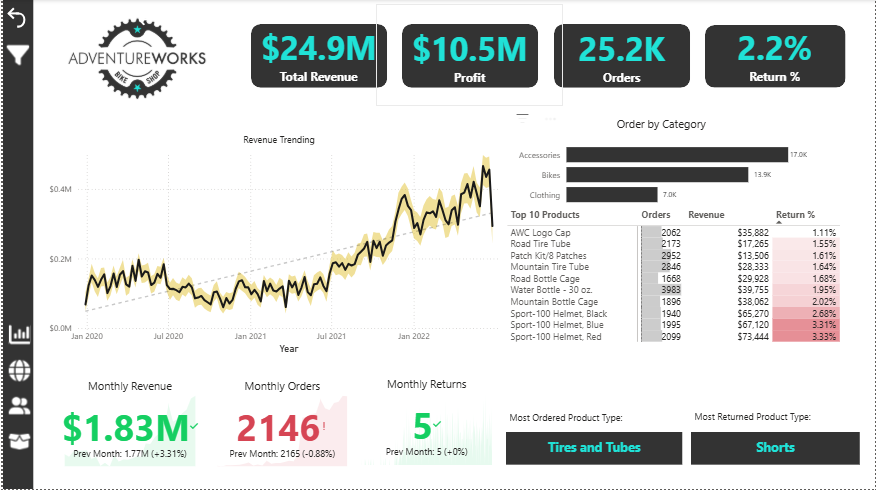

What the dashboard file says about the page in this screenshot:
{"tool":"powerbi","page":{"name":"Exec Details","canvas":[1280,720],"ordinal":0},"visuals":[{"type":"image","title":"AW Logo","box":[68.3,17.5,257.5,139.9],"z":0},{"type":"actionButton","box":[4.8,467.3,39.7,52.5],"z":0,"group":"g1"},{"type":"shape","box":[586.5,37.2,200.3,93.8],"z":1000},{"type":"actionButton","box":[4.8,572.2,39.7,52.5],"z":1000,"group":"g1"},{"type":"shape","box":[809,37.2,200.3,93.8],"z":2000},{"type":"actionButton","box":[4.8,624.7,39.7,52.5],"z":2000,"group":"g1"},{"type":"shape","title":"Nav Bar","box":[0,0,44.5,720],"z":3000},{"type":"actionButton","box":[4.8,519.8,39.7,52.5],"z":3000,"group":"g1"},{"type":"shape","box":[364,37.2,200.3,93.8],"z":4000},{"type":"shape","box":[1031.5,37.9,206.6,92.2],"z":5000},{"type":"lineChart","title":"Revenue Trending","fields":{"Y":["Measure Table.Total Revenue"],"Category":["Calendar Lookup.Start of Week.Variation.Date Hierarchy.Year","Calendar Lookup.Start of Week.Variation.Date Hierarchy.Quarter","Calendar Lookup.Start of Week.Variation.Date Hierarchy.Month","Calendar Lookup.Start of Week.Variation.Date Hierarchy.Day"]},"box":[63.3,196.7,685,330],"z":6000},{"type":"card","fields":{"Values":["Measure Table.Total Revenue"]},"box":[325.8,6.4,275,151],"z":7000},{"type":"card","fields":{"Values":["Measure Table.Return Rate"]},"box":[996.6,6.4,275,149.4],"z":8000},{"type":"card","fields":{"Values":["Measure Table.Total Orders"]},"box":[770.9,7.9,275,149.4],"z":9000},{"type":"card","fields":{"Values":["Measure Table.Total Profit"]},"box":[548.3,7.9,275,149.4],"z":10000},{"type":"kpi","title":"Monthly Revenue","fields":{"Indicator":["Measure Table.Total Revenue"],"TrendLine":["Calendar Lookup.Start of Month"],"Goal":["Measure Table.Previous Month Revenue"]},"box":[85.8,557.3,202.8,135.1],"z":11000,"group":"g2"},{"type":"clusteredBarChart","title":"Order by Category ","fields":{"Category":["Product Categories Lookup.CategoryName"],"Y":["Measure Table.Total Orders"]},"box":[748.6,171.7,438.7,144.6],"z":12000},{"type":"kpi","title":"Monthly Orders","fields":{"TrendLine":["Calendar Lookup.Start of Month"],"Indicator":["Measure Table.Total Orders"],"Goal":["Measure Table.Previous Month Orders"]},"box":[311.2,557.3,200.9,135.1],"z":13000,"group":"g2"},{"type":"pivotTable","fields":{"Rows":["Product Lookup.ProductName"],"Values":["Measure Table.Total Orders","Measure Table.Total Revenue","Measure Table.Return Rate"]},"box":[739.1,311.5,519.7,243.2],"z":14000},{"type":"card","fields":{"Values":["Min(Product Subcategories Lookup.SubcategoryName)"]},"box":[739.1,635.8,259.1,47.7],"z":15000},{"type":"textbox","box":[739.1,600.8,247.9,35],"z":16000},{"type":"card","fields":{"Values":["Min(Product Subcategories Lookup.SubcategoryName)"]},"box":[1010.9,635.8,247.9,47.7],"z":17000},{"type":"textbox","box":[1010.3,600.2,247.9,35],"z":18000},{"type":"group","id":"g1","title":"Group 1","box":[4.8,467.3,39.7,209.8],"z":19000},{"type":"actionButton","box":[0,7.9,100.1,39.7],"z":20000},{"type":"actionButton","box":[1.6,62,44.5,41.3],"z":21000},{"type":"actionButton","box":[195.5,11.1,25.4,36.6],"z":23000},{"type":"kpi","title":"Monthly Returns","fields":{"Goal":["Measure Table.Previous Month Returns"],"TrendLine":["Returns Data.ReturnDate"],"Indicator":["Measure Table.Total Returns"]},"box":[522.6,554.2,202,135.9],"z":24000,"group":"g2"},{"type":"group","id":"g2","title":"Group 2","box":[85.8,554.2,640,137.7],"z":24001}]}

Visuals, with their boxes on the page's 1280x720 design canvas (x1, y1, x2, y2). These are canvas units, not pixel positions in the 876x490 screenshot, which may show the page scaled, cropped or inside an application window:
"AW Logo" image: crop(68, 18, 326, 157)
actionButton: crop(5, 467, 44, 520)
shape: crop(586, 37, 787, 131)
actionButton: crop(5, 572, 44, 625)
shape: crop(809, 37, 1009, 131)
actionButton: crop(5, 625, 44, 677)
"Nav Bar" shape: crop(0, 0, 44, 720)
actionButton: crop(5, 520, 44, 572)
shape: crop(364, 37, 564, 131)
shape: crop(1032, 38, 1238, 130)
"Revenue Trending" lineChart: crop(63, 197, 748, 527)
card - Measure Table.Total Revenue: crop(326, 6, 601, 157)
card - Measure Table.Return Rate: crop(997, 6, 1272, 156)
card - Measure Table.Total Orders: crop(771, 8, 1046, 157)
card - Measure Table.Total Profit: crop(548, 8, 823, 157)
"Monthly Revenue" kpi: crop(86, 557, 289, 692)
"Order by Category " clusteredBarChart: crop(749, 172, 1187, 316)
"Monthly Orders" kpi: crop(311, 557, 512, 692)
pivotTable - Product Lookup.ProductName x Measure Table.Total Orders: crop(739, 312, 1259, 555)
card - Min(Product Subcategories Lookup.SubcategoryName): crop(739, 636, 998, 684)
textbox: crop(739, 601, 987, 636)
card - Min(Product Subcategories Lookup.SubcategoryName): crop(1011, 636, 1259, 684)
textbox: crop(1010, 600, 1258, 635)
"Group 1" group: crop(5, 467, 44, 677)
actionButton: crop(0, 8, 100, 48)
actionButton: crop(2, 62, 46, 103)
actionButton: crop(196, 11, 221, 48)
"Monthly Returns" kpi: crop(523, 554, 725, 690)
"Group 2" group: crop(86, 554, 726, 692)
